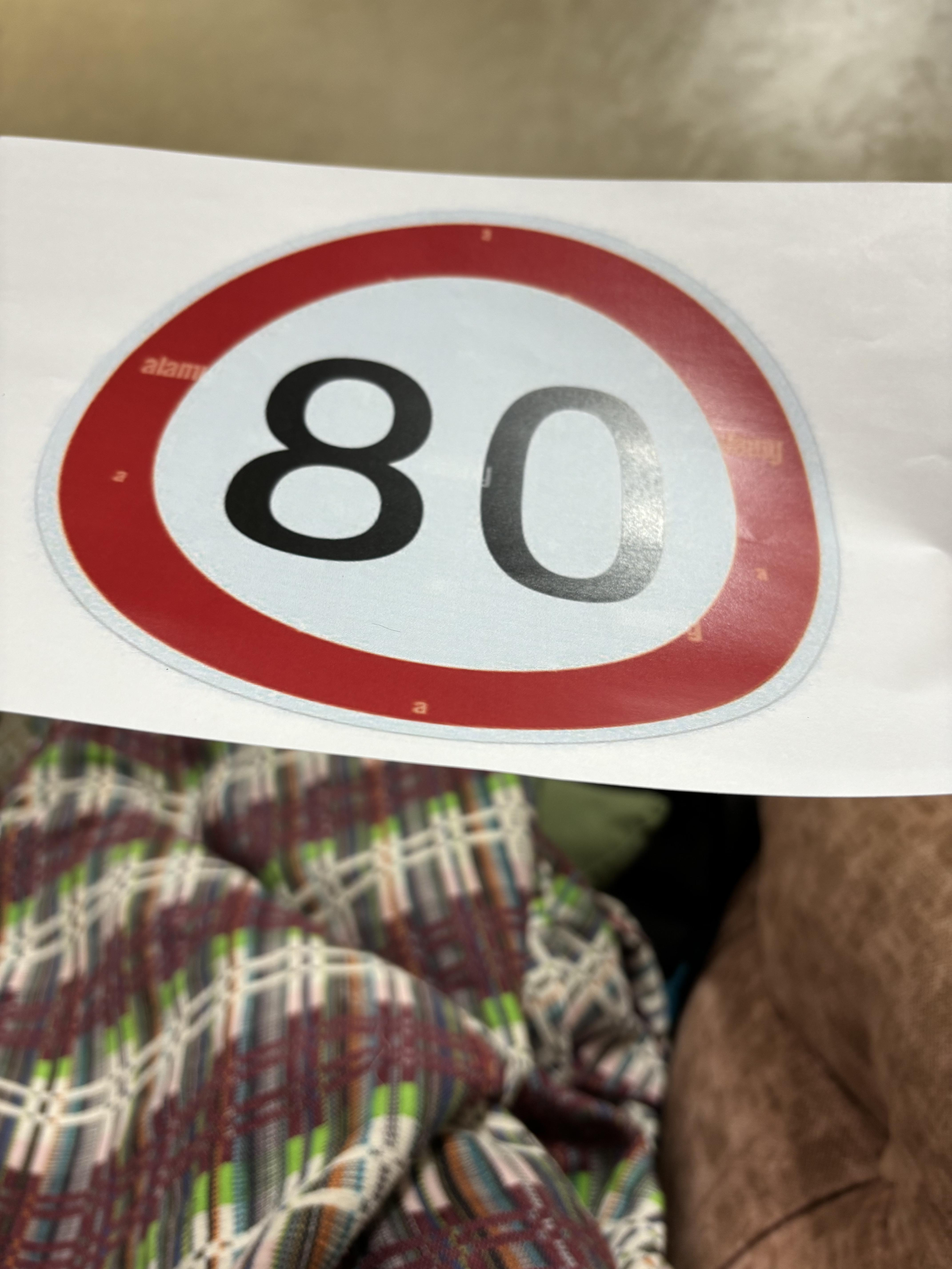80-Speed: (47, 196, 856, 757)
